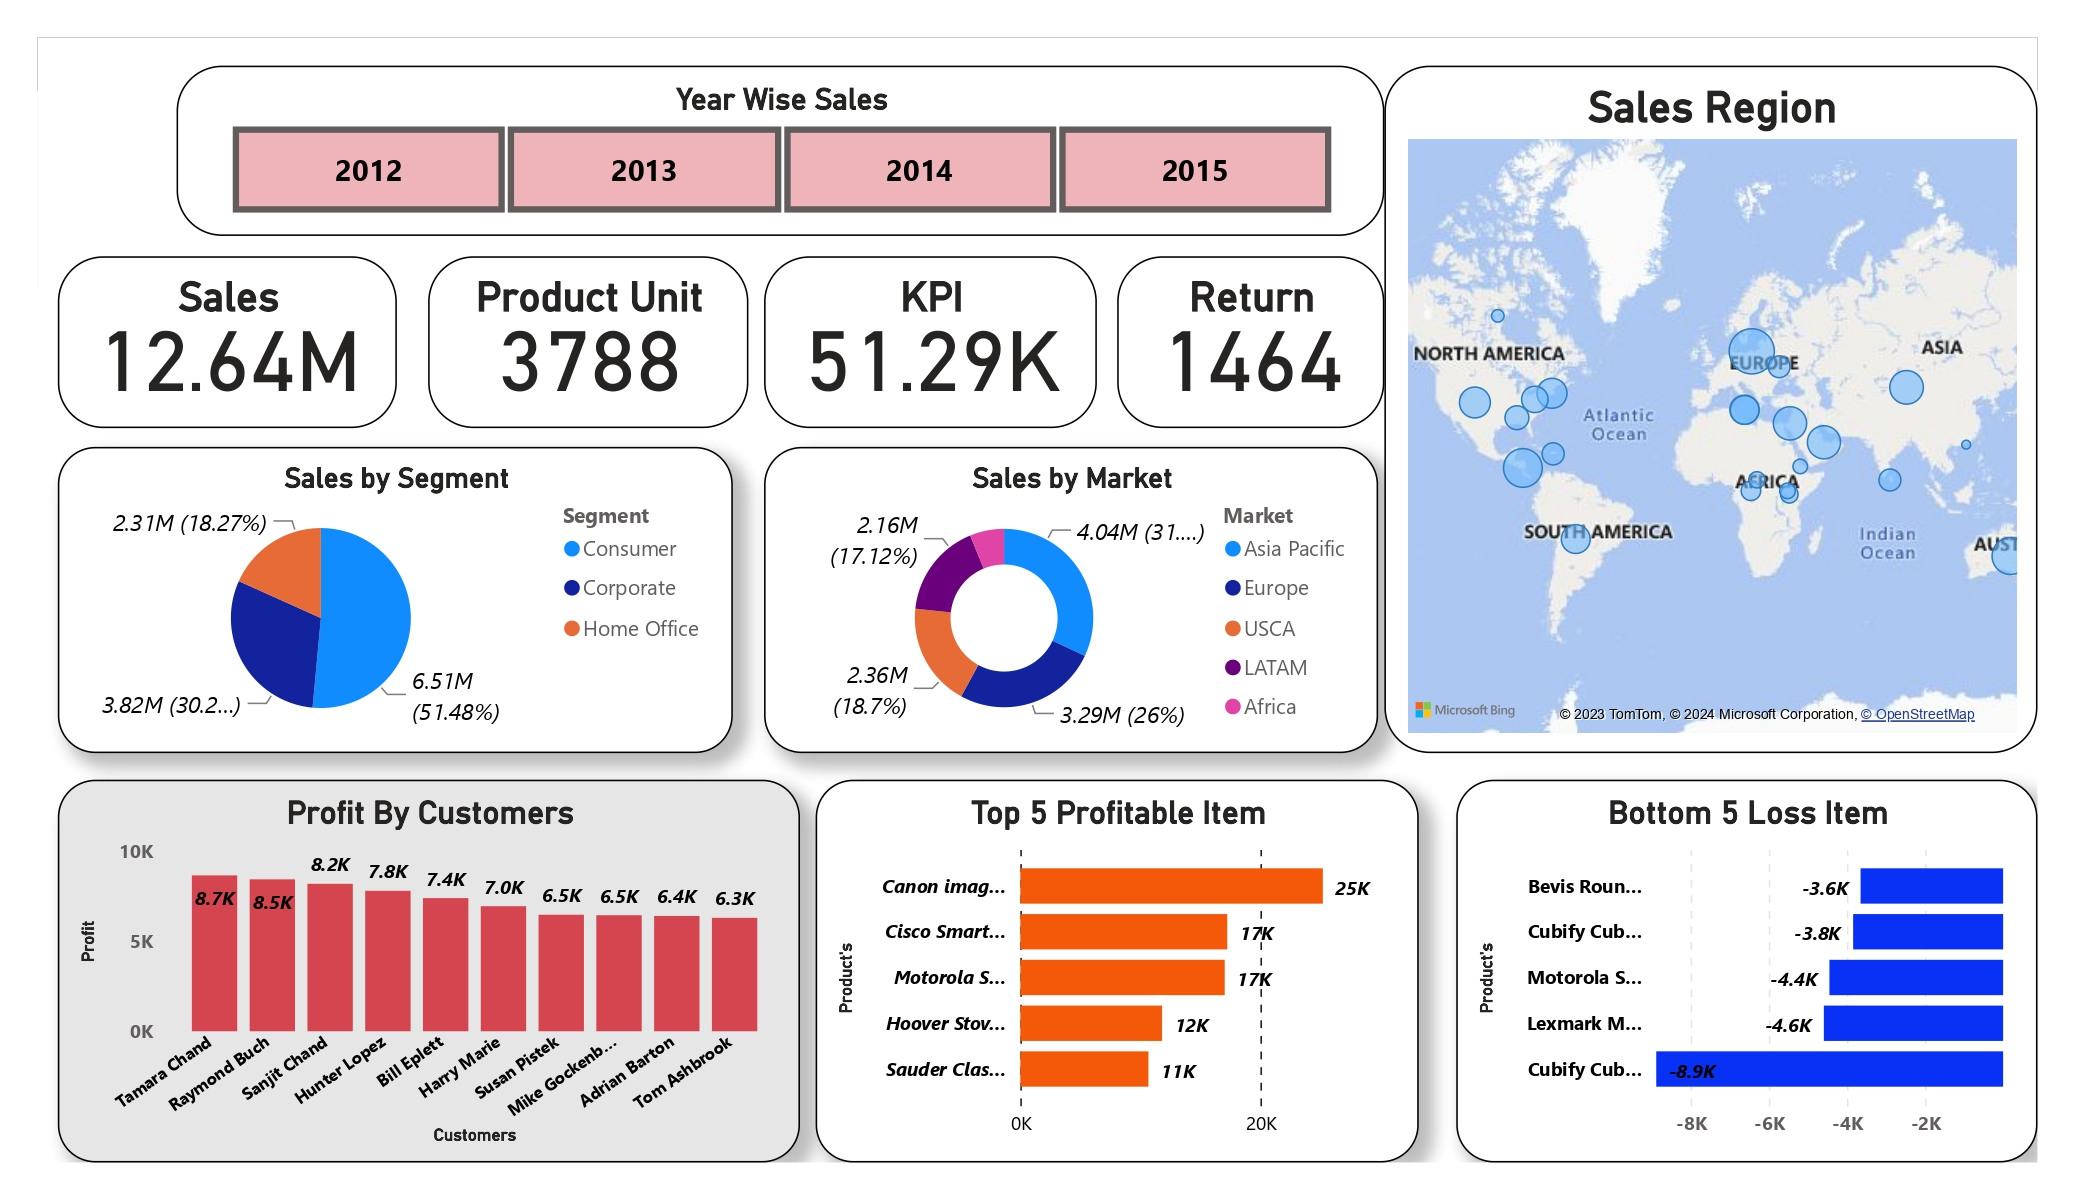

This screenshot's page, from the dashboard's own definition file:
{"tool":"powerbi","page":{"name":"Page 1","canvas":[1280,720],"ordinal":0},"visuals":[{"type":"slicer","title":"Year Wise Sales","fields":{"Values":["Orders.Year "]},"box":[89.3,17.6,772.7,109.8],"z":0},{"type":"card","title":"Sales","fields":{"Values":["Orders.Sales"]},"box":[13.2,140.5,216.6,109.8],"z":1000},{"type":"card","title":"Product Unit ","fields":{"Values":["Orders.Product Name"]},"box":[250.2,140.5,204.9,109.8],"z":2000},{"type":"card","title":"KPI ","fields":{"Values":["Orders.Quantity"]},"box":[465.4,140.5,212.2,109.8],"z":3000},{"type":"card","title":"Return ","fields":{"Values":["Orders.Ship Date"]},"box":[690.7,140.5,171.2,109.8],"z":4000},{"type":"pieChart","title":"Sales by Segment","fields":{"Y":["Orders.Sales"],"Category":["Orders.Segment"]},"box":[13.2,262,431.7,196.1],"z":5000},{"type":"donutChart","title":"Sales by Market ","fields":{"Y":["Orders.Sales"],"Category":["Orders.Market"]},"box":[465.4,262,392.2,196.1],"z":6000},{"type":"columnChart","title":"Profit By Customers ","fields":{"Category":["Orders.Customer Name"],"Y":["Orders.Profit"]},"box":[13.4,474.8,474.8,244.9],"z":7000},{"type":"clusteredBarChart","title":"Top 5 Profitable Item ","fields":{"Y":["Orders.Profit"],"Category":["Orders.Product Name"]},"box":[498.2,474.8,385.8,244.9],"z":8000},{"type":"clusteredBarChart","title":"Bottom 5 Loss Item ","fields":{"Y":["Orders.Profit"],"Category":["Orders.Product Name"]},"box":[907.6,474.8,372.4,244.9],"z":9000},{"type":"map","title":"Sales Region ","fields":{"Category":["Orders.Region"],"Size":["Orders.Sales"]},"box":[862,17.6,418.5,440.5],"z":10000}]}

Visuals, with their boxes on the page's 1280x720 design canvas (x1, y1, x2, y2). These are canvas units, not pixel positions in the 2075x1200 screenshot, which may show the page scaled, cropped or inside an application window:
"Year Wise Sales" slicer: 89,18,862,127
"Sales" card: 13,140,230,250
"Product Unit " card: 250,140,455,250
"KPI " card: 465,140,678,250
"Return " card: 691,140,862,250
"Sales by Segment" pieChart: 13,262,445,458
"Sales by Market " donutChart: 465,262,858,458
"Profit By Customers " columnChart: 13,475,488,720
"Top 5 Profitable Item " clusteredBarChart: 498,475,884,720
"Bottom 5 Loss Item " clusteredBarChart: 908,475,1280,720
"Sales Region " map: 862,18,1280,458
